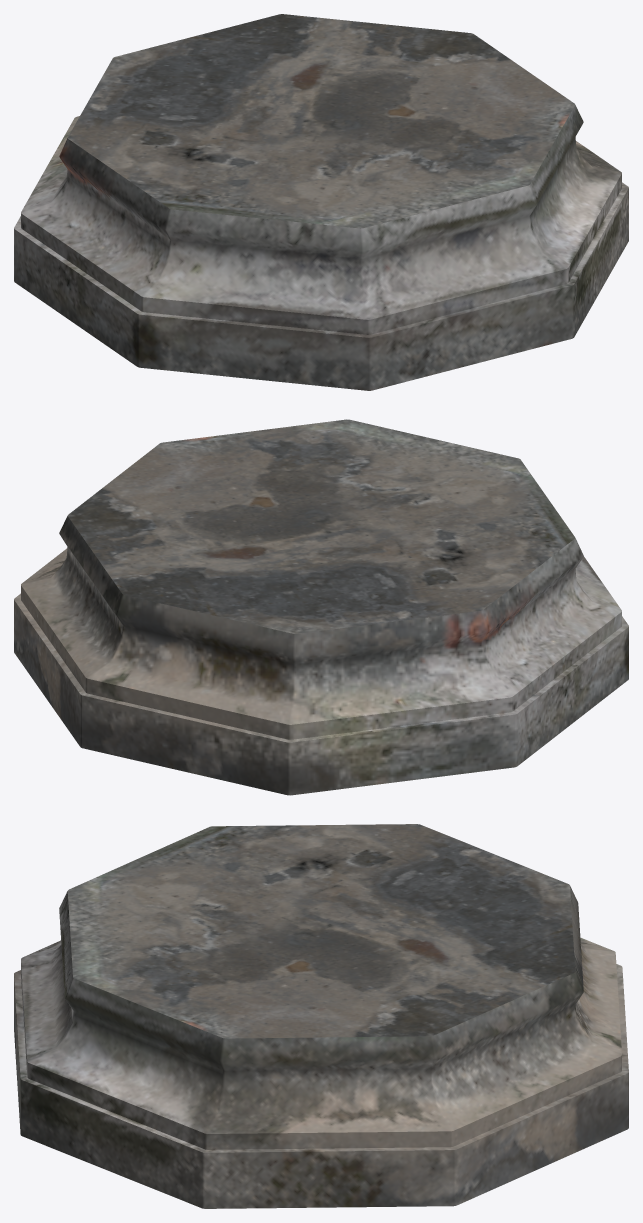
The model's file is sm_ChapelColumnBase_01_02.fbx.
3 renders of one model, top to bottom at view 1: azimuth 30°, elevation 25°; view 2: azimuth 150°, elevation 25°; view 3: azimuth 270°, elevation 25°, orthographic. The views are drawn at different scales.
Visible parts, largest first — view 1: sm_ChapelColumnBase_01_02_LOD0; view 2: sm_ChapelColumnBase_01_02_LOD0; view 3: sm_ChapelColumnBase_01_02_LOD0.
Boxes of the visible parts, left/top/right/bottom form: sm_ChapelColumnBase_01_02_LOD0: left=14, top=14, right=628, bottom=390; sm_ChapelColumnBase_01_02_LOD0: left=14, top=419, right=628, bottom=795; sm_ChapelColumnBase_01_02_LOD0: left=14, top=824, right=628, bottom=1208.
Size of the model in its own units: 94.56 by 94.56 by 25.06.
